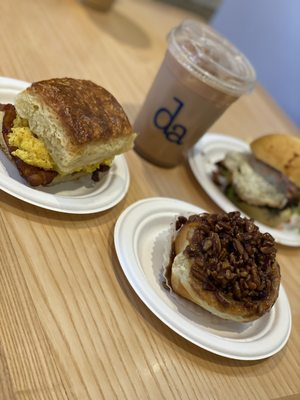pizza: (132, 19, 257, 169)
soup: (0, 77, 136, 187), (165, 211, 282, 322), (191, 133, 300, 246)
